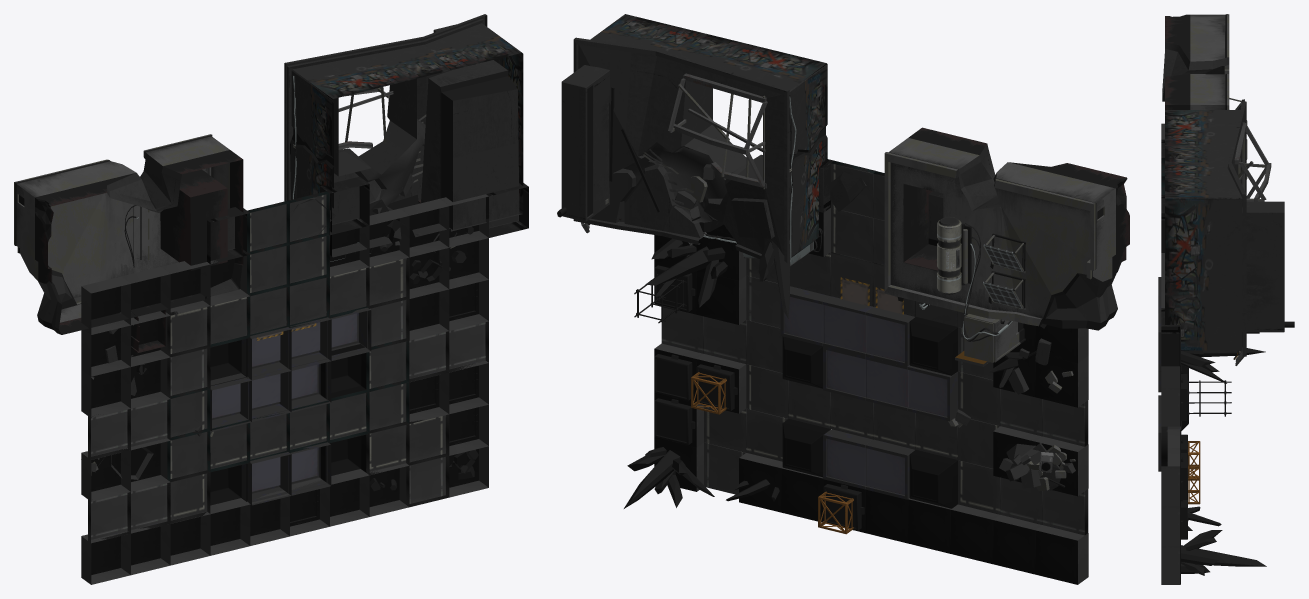
3 views of the same model, side by side, from view 1: azimuth 30°, elevation 25°; view 2: azimuth 150°, elevation 25°; view 3: azimuth 270°, elevation 25° (orthographic). The views are drawn at different scales.
Parts seen in each view (by area): view 1: S_playground, S_outworld; view 2: S_outworld, S_playground; view 3: S_outworld, S_playground.
Boxes of the visible parts, x1,y1,x2,y2 form: S_playground: [81, 191, 488, 584]; S_outworld: [14, 14, 528, 523]; S_outworld: [557, 14, 1129, 534]; S_playground: [654, 160, 1088, 584]; S_outworld: [1161, 14, 1294, 575]; S_playground: [1158, 123, 1188, 584].
Size of the model in its own units: 0.1207 by 0.1046 by 0.0312.
3 materials, 3 textured.
